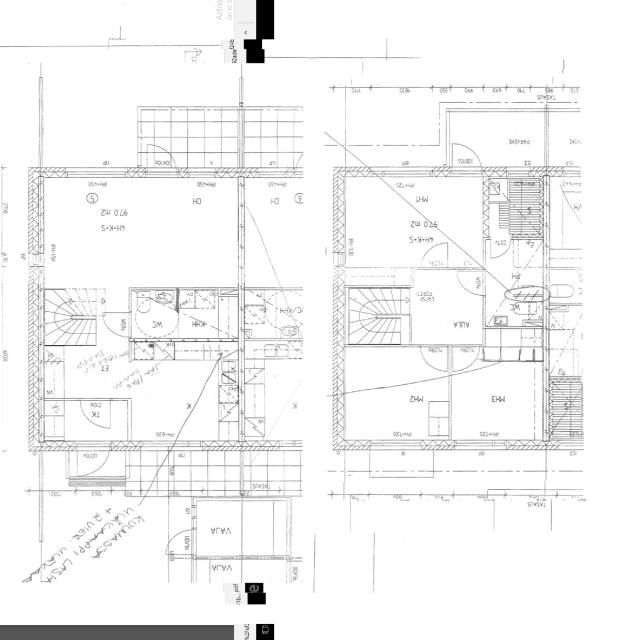door: (146, 140, 182, 178), (448, 140, 484, 177), (417, 342, 452, 375), (449, 343, 485, 375), (454, 268, 486, 298), (418, 241, 452, 269), (101, 310, 131, 339), (166, 527, 195, 556), (488, 237, 512, 260)
window: (368, 165, 440, 182), (366, 436, 428, 455), (63, 166, 129, 182), (452, 437, 508, 455), (215, 1, 236, 44), (74, 485, 127, 500), (234, 72, 249, 108), (183, 168, 220, 180), (25, 246, 43, 269)
zone: (38, 177, 243, 287), (337, 173, 474, 271), (338, 344, 452, 448), (126, 341, 239, 444), (449, 351, 546, 446), (338, 85, 445, 169), (244, 341, 310, 446), (445, 108, 552, 167), (63, 500, 167, 558), (411, 270, 486, 344), (121, 0, 220, 47), (193, 499, 262, 559), (489, 170, 545, 240), (177, 292, 239, 341), (239, 500, 289, 559), (129, 288, 179, 342), (547, 375, 585, 442), (547, 448, 583, 473)
